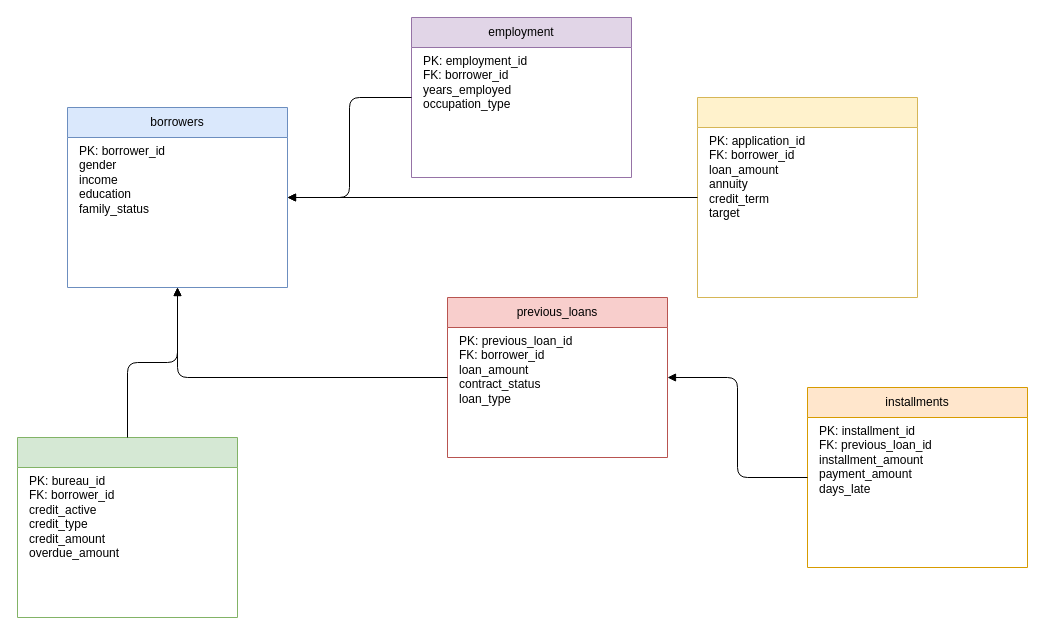
Some shapes in this 1045 by 635 pixel diagram are drawn without their labels. The box of each missing label's shape, as (x1, y1, x2, y2) in pixels:
bureau_records: (16, 436, 238, 618)
loan_applications: (696, 96, 918, 298)
